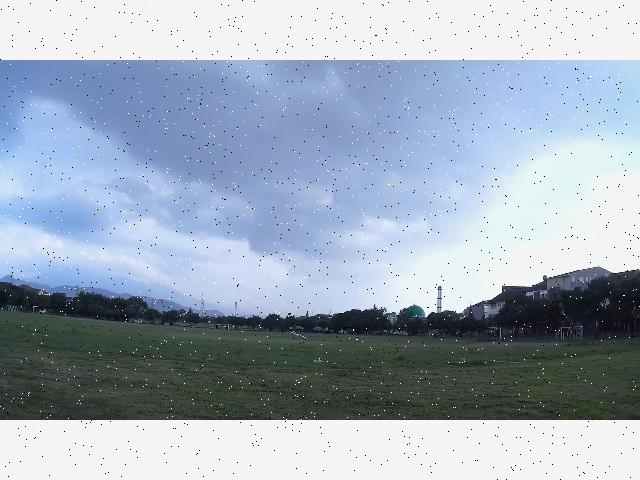Anti-Drone: (286, 324, 312, 340)
